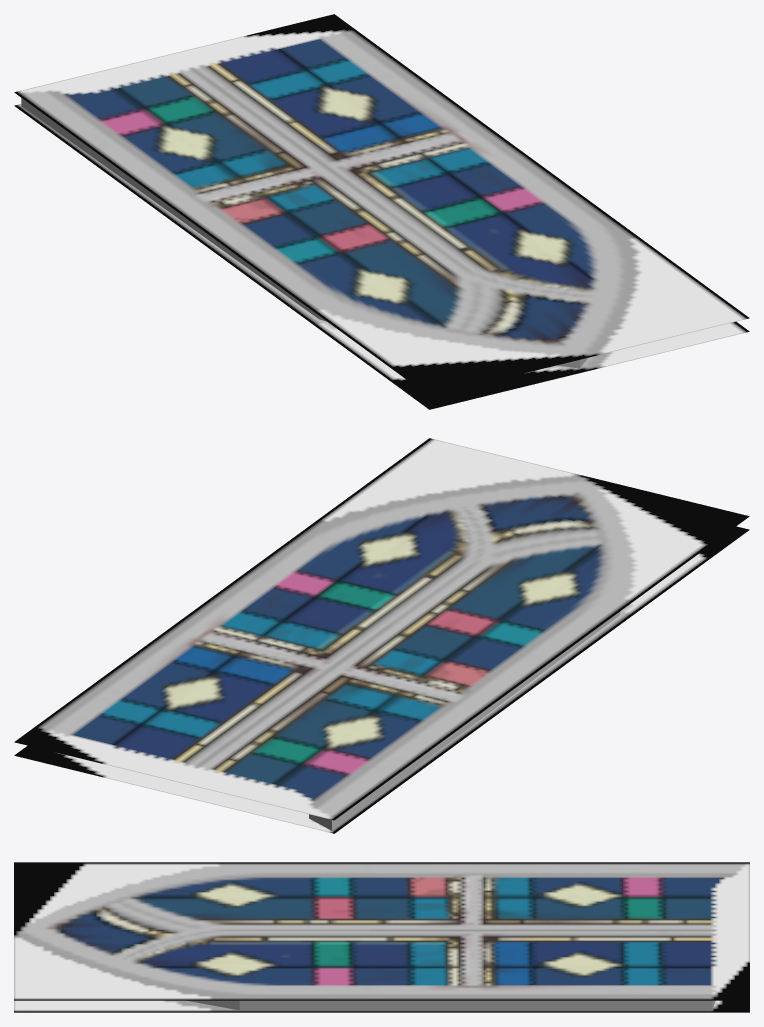
File: pz_native_location_community_church_small_01_117_frame.obj
3 renders of one model, top to bottom at view 1: azimuth 30°, elevation 25°; view 2: azimuth 150°, elevation 25°; view 3: azimuth 270°, elevation 25°, orthographic. The views are drawn at different scales.
Parts seen in each view (by area): view 1: pz_native_location_community_church_small_01_117_frame; view 2: pz_native_location_community_church_small_01_117_frame; view 3: pz_native_location_community_church_small_01_117_frame.
Boxes of the visible parts, x1,y1,x2,y2 form: pz_native_location_community_church_small_01_117_frame: (14, 14, 749, 409); pz_native_location_community_church_small_01_117_frame: (14, 438, 749, 833); pz_native_location_community_church_small_01_117_frame: (14, 862, 749, 1012).
Size of the model in its own units: 1 by 0.04 by 2.25.
1 material, 1 textured.
